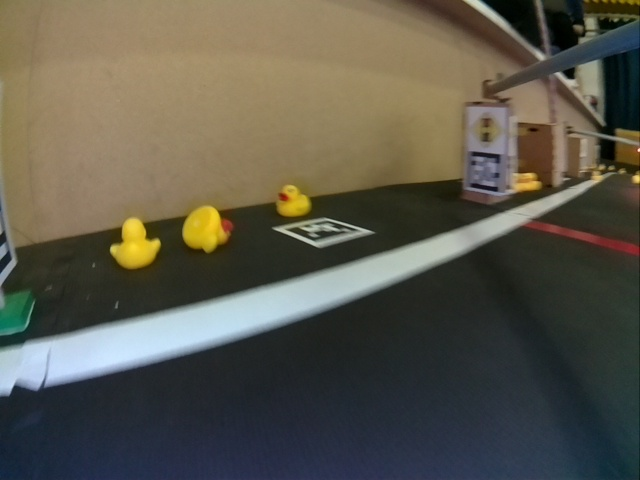Duckie: (111, 218, 159, 269), (184, 208, 229, 251), (276, 184, 310, 216)
QR code: (275, 217, 373, 248), (464, 154, 502, 192)
Signal sign: (467, 112, 502, 148)
